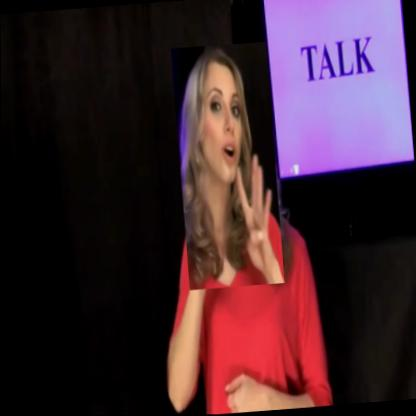Talk: (171, 42, 284, 291)
